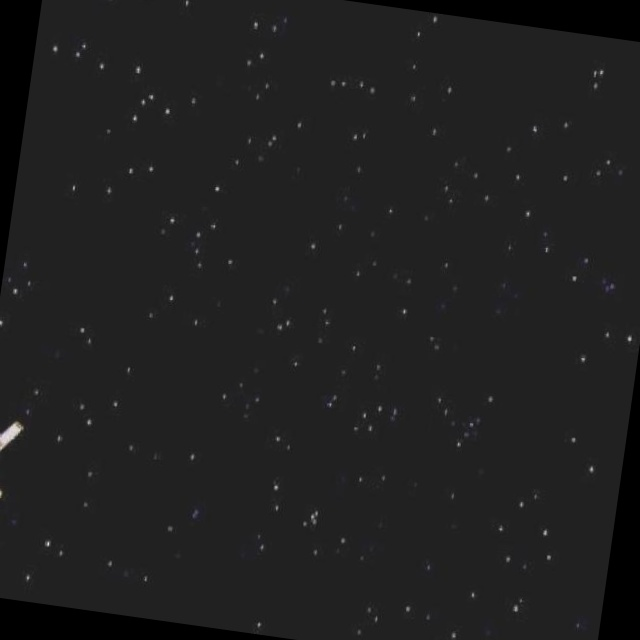satellite: (0, 411, 23, 544)
